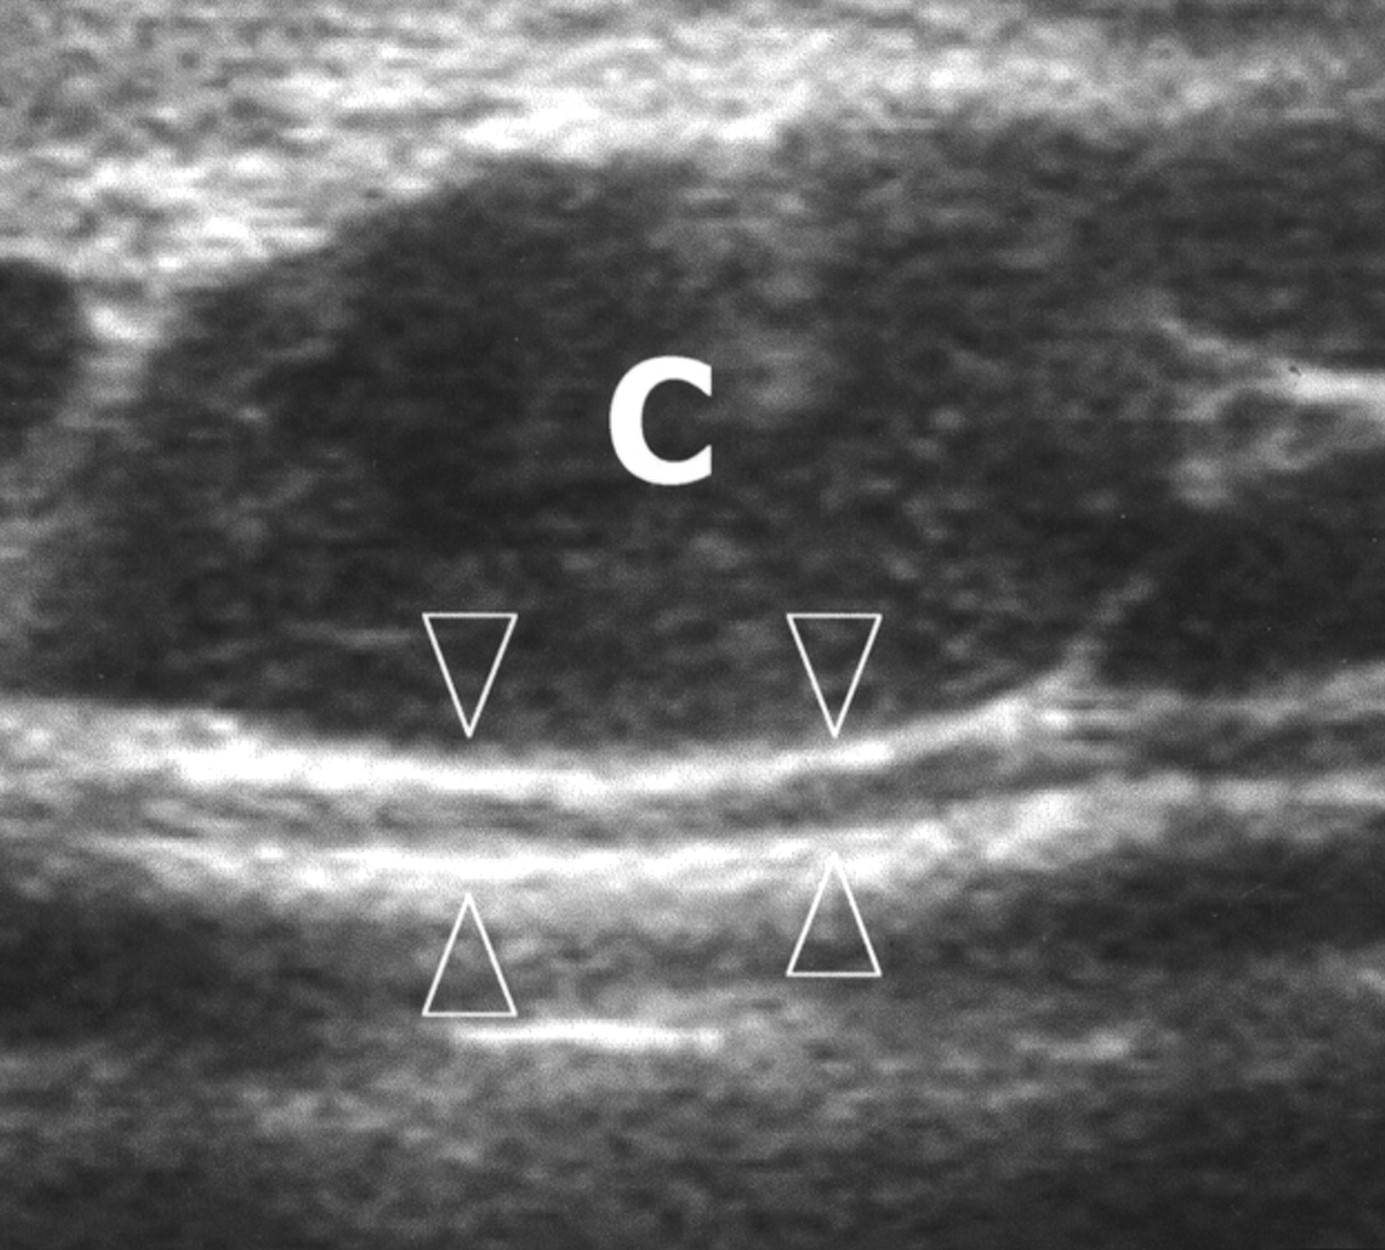vagusnerve: (122, 706, 1385, 909)
